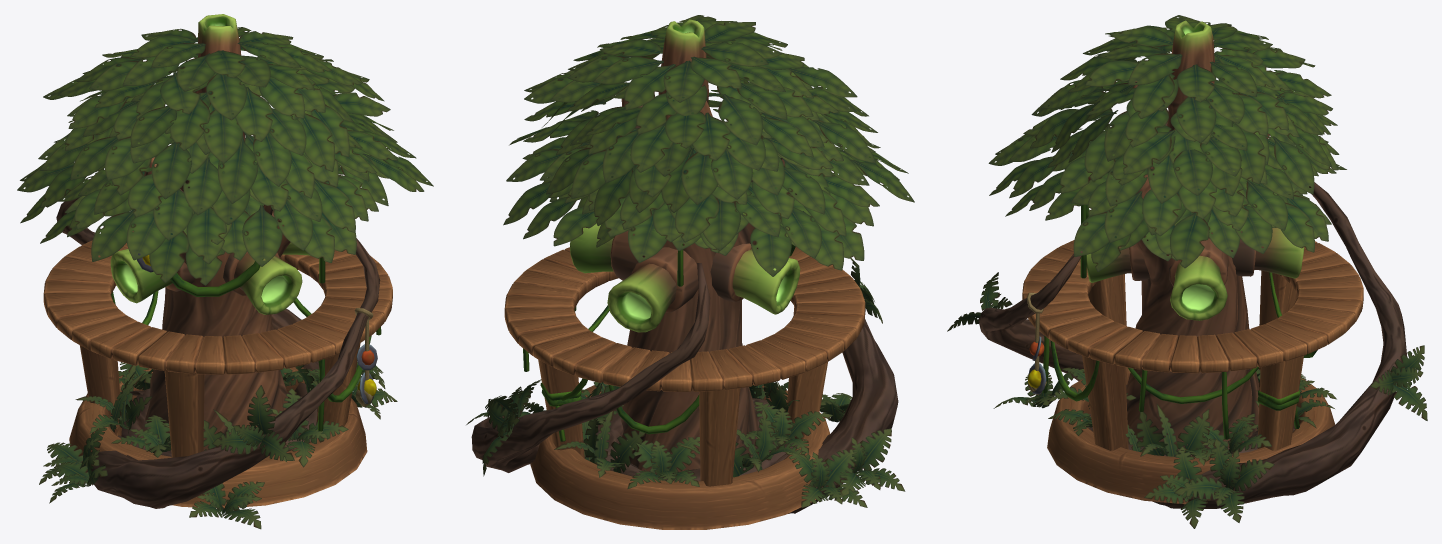
The model's file is SM_TowerDefense_Nature_Lv3.fbx.
The picture shows the model from 3 angles, left to right: view 1: azimuth 30°, elevation 25°; view 2: azimuth 150°, elevation 25°; view 3: azimuth 270°, elevation 25°; orthographic projection. The views are drawn at different scales.
Parts seen in each view (by area): view 1: SM_TowerDefense_Nature_Lv3; view 2: SM_TowerDefense_Nature_Lv3; view 3: SM_TowerDefense_Nature_Lv3.
Part boxes in pixels (<box>): SM_TowerDefense_Nature_Lv3: <box>17,14,433,529</box>; SM_TowerDefense_Nature_Lv3: <box>466,15,914,529</box>; SM_TowerDefense_Nature_Lv3: <box>947,15,1427,528</box>.
Size of the model in its own units: 1449 by 1615 by 1623.
